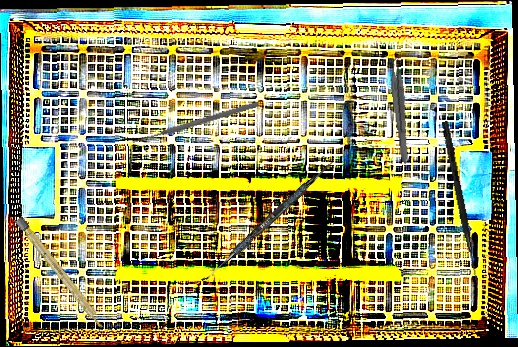Hook Surgical: (440, 120, 482, 284)
Pusher: (130, 99, 260, 147)
Scalpel Handle: (14, 216, 108, 331)
Spatula Surgical: (201, 157, 334, 287)
Tissue Forceps: (387, 53, 415, 165)
